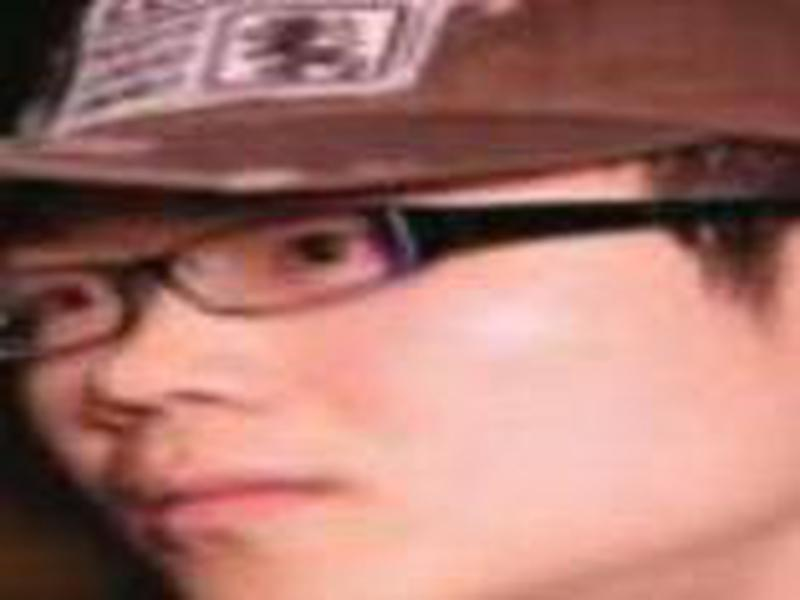without_mask: (8, 133, 799, 600)
